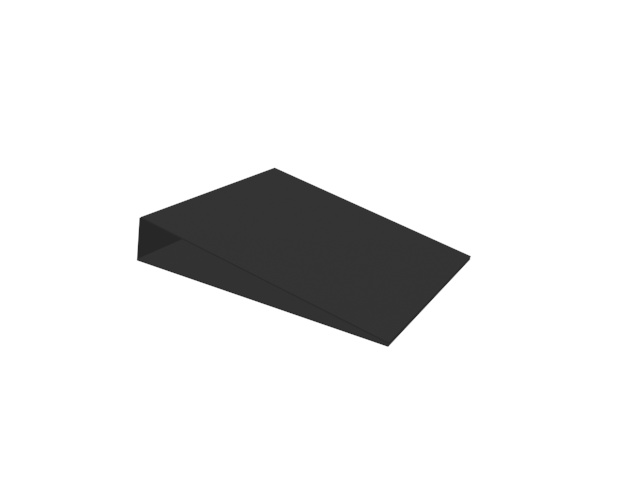ring_binder: (137, 161, 472, 352)
